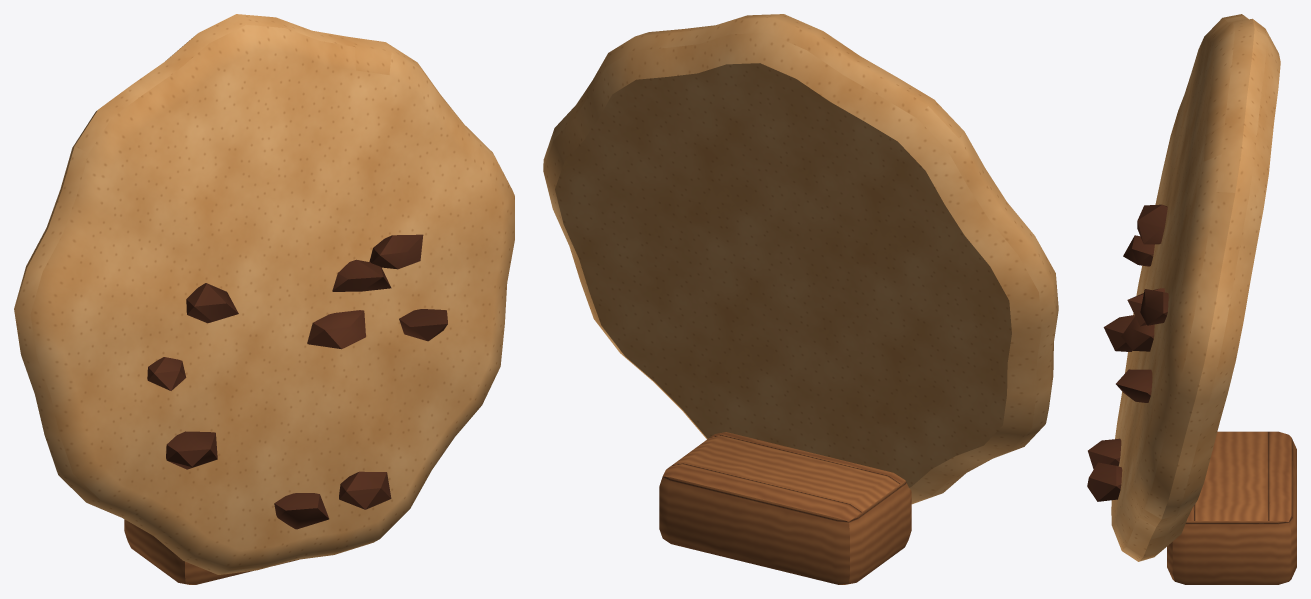
The model's file is GIN_GiantCookie.fbx.
3 renders of one model, left to right at view 1: azimuth 30°, elevation 25°; view 2: azimuth 150°, elevation 25°; view 3: azimuth 270°, elevation 25°, orthographic. The views are drawn at different scales.
Parts seen in each view (by area): view 1: GIN_GiantCookie; view 2: GIN_GiantCookie; view 3: GIN_GiantCookie.
Boxes of the visible parts, x1,y1,x2,y2 form: GIN_GiantCookie: (14, 14, 514, 584); GIN_GiantCookie: (543, 14, 1058, 584); GIN_GiantCookie: (1087, 14, 1296, 584).
Size of the model in its own units: 1.52 by 1.54 by 0.5659.
